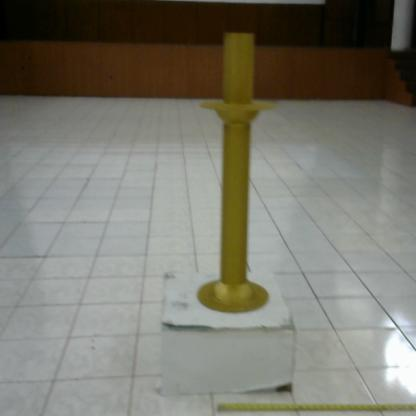pole: (191, 23, 278, 322)
